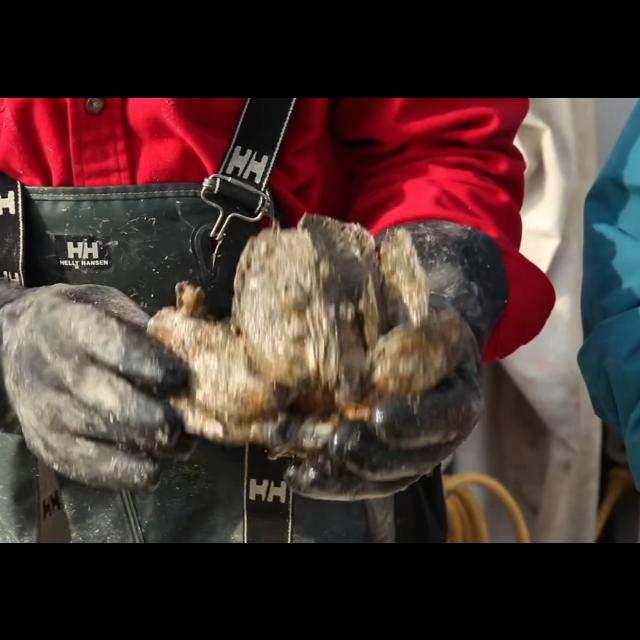Oyster-Closed: (146, 308, 276, 444), (232, 228, 334, 382), (346, 310, 468, 400), (296, 214, 378, 326), (375, 228, 427, 310), (358, 272, 380, 342)
